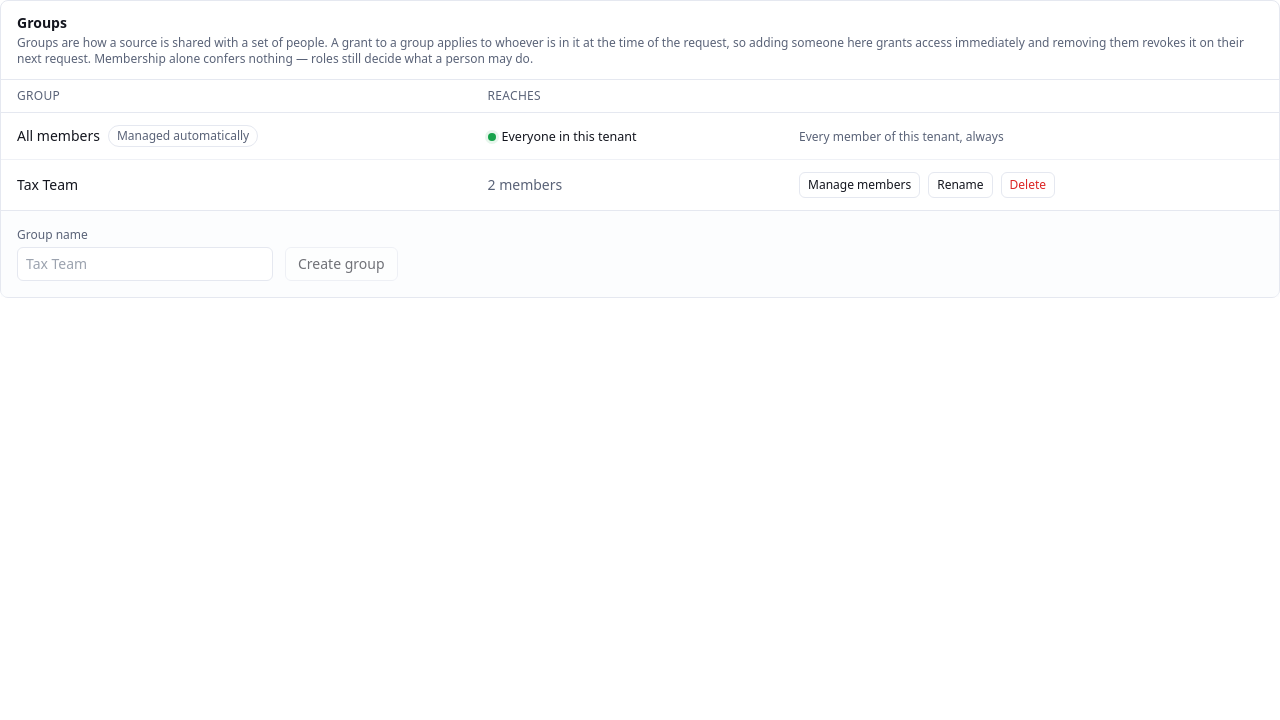
Test: GroupsPanel › keeps the dialog open and shows the failure when a delete is refused
Expected: the text "Tax Team" is shown, [17,175,78,195]
What coordinates should you click on to do the following:
click the button with aria-label "delete tax team"
I would click on:
 (1028, 185)
Its box is [1000,172,1055,198].
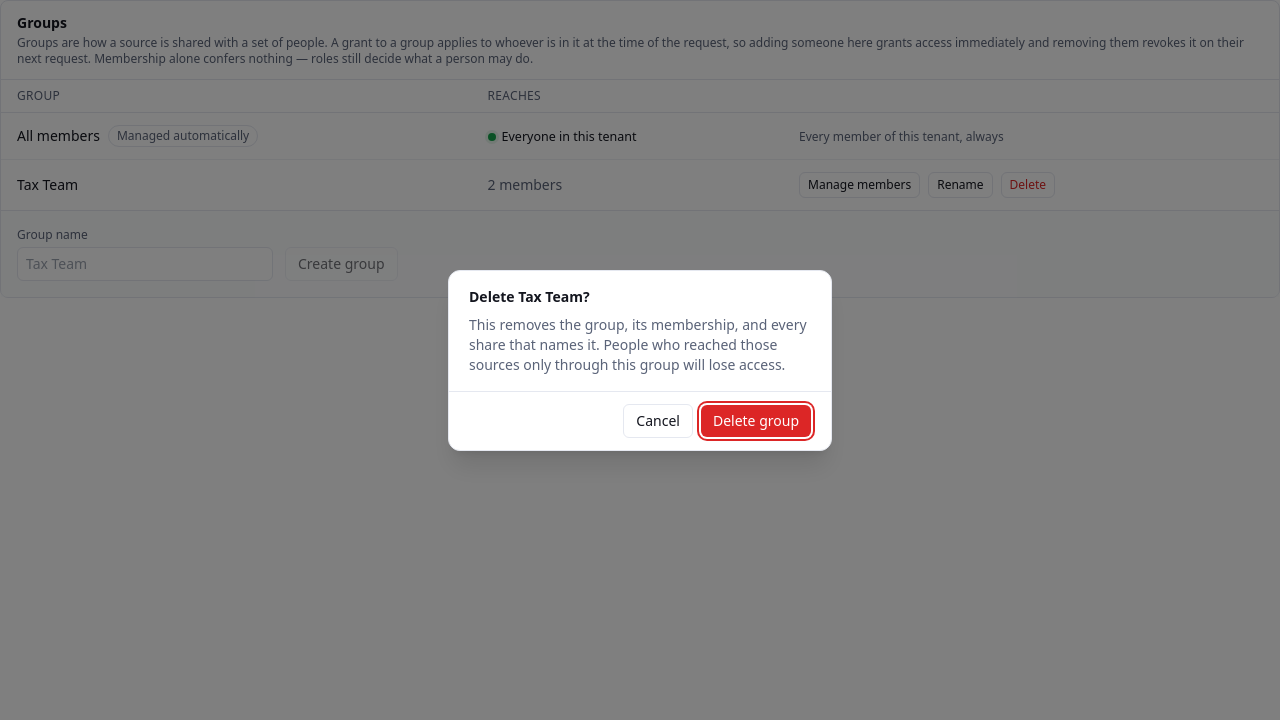
What coordinates should you click on to do the following:
click the button "Delete group"
I would click on:
 (756, 420)
Its box is [701,404,811,436].
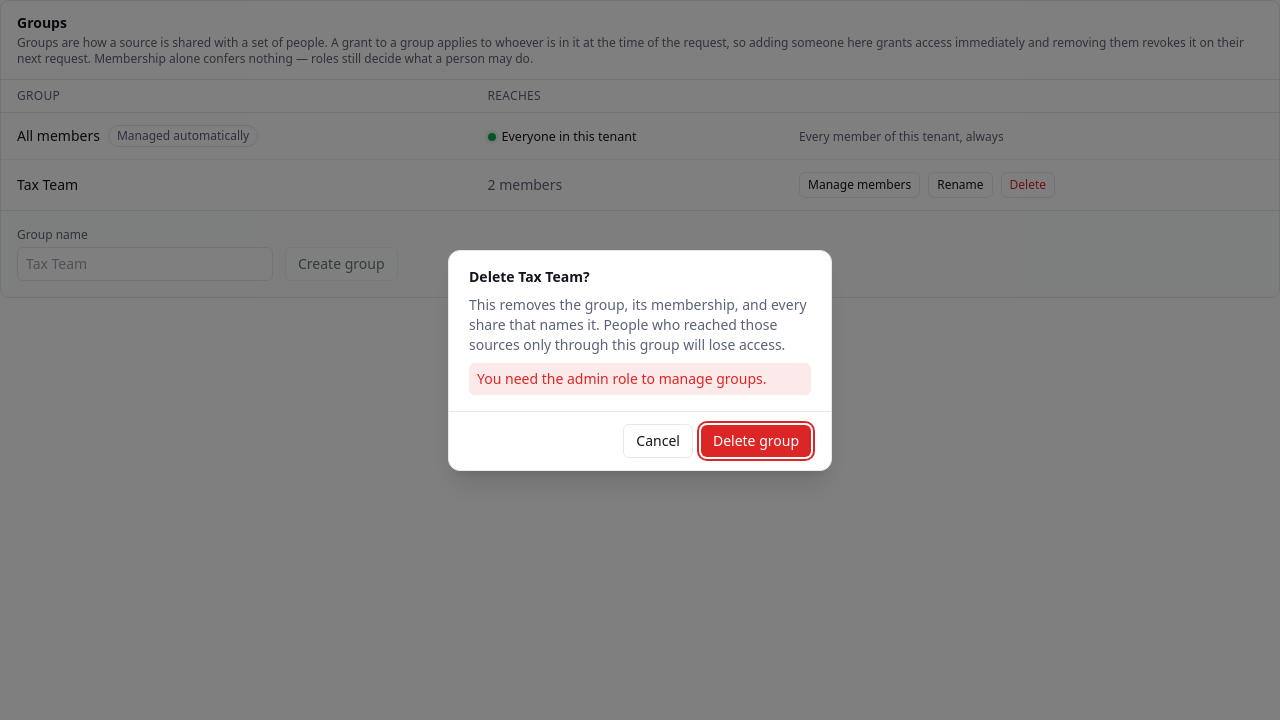
Expected: the text "Tax Team" is shown, [17,175,78,195]
Result: the dialog is shown
Result: the text "You need the admin role to manage groups." is shown at [469,362,811,394]
